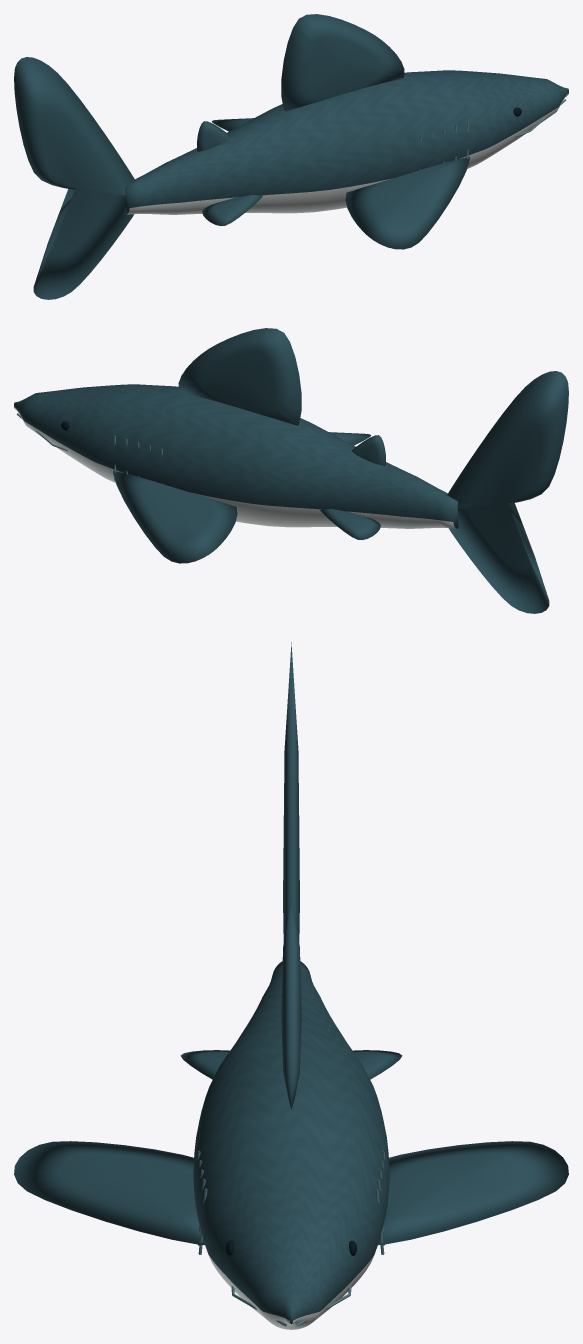
File: m_shark.glb
The picture shows the model from 3 angles, top to bottom: view 1: azimuth 30°, elevation 25°; view 2: azimuth 150°, elevation 25°; view 3: azimuth 270°, elevation 25°; orthographic projection. The views are drawn at different scales.
Parts seen in each view (by area): view 1: Shark; view 2: Shark; view 3: Shark.
Boxes of the visible parts, x1=… form: Shark: x1=14, y1=14, x2=568, y2=299; Shark: x1=14, y1=328, x2=568, y2=613; Shark: x1=14, y1=642, x2=568, y2=1329.
Bounding box in the file's own units: 1.17 × 0.5036 × 0.6501.
Materials: 4 (1 with a texture image).
